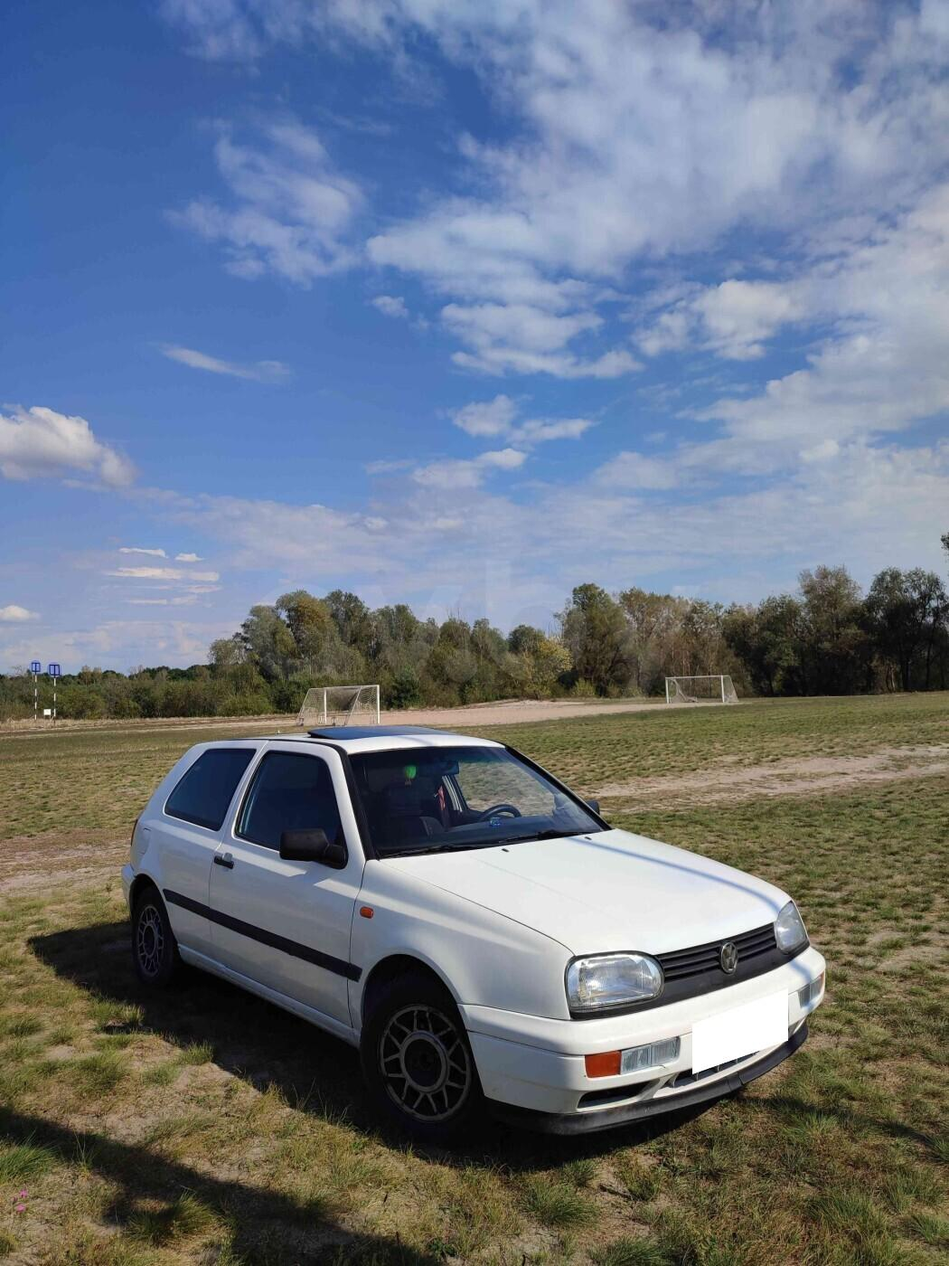Golf_1991-2000: (129, 713, 838, 1136)
